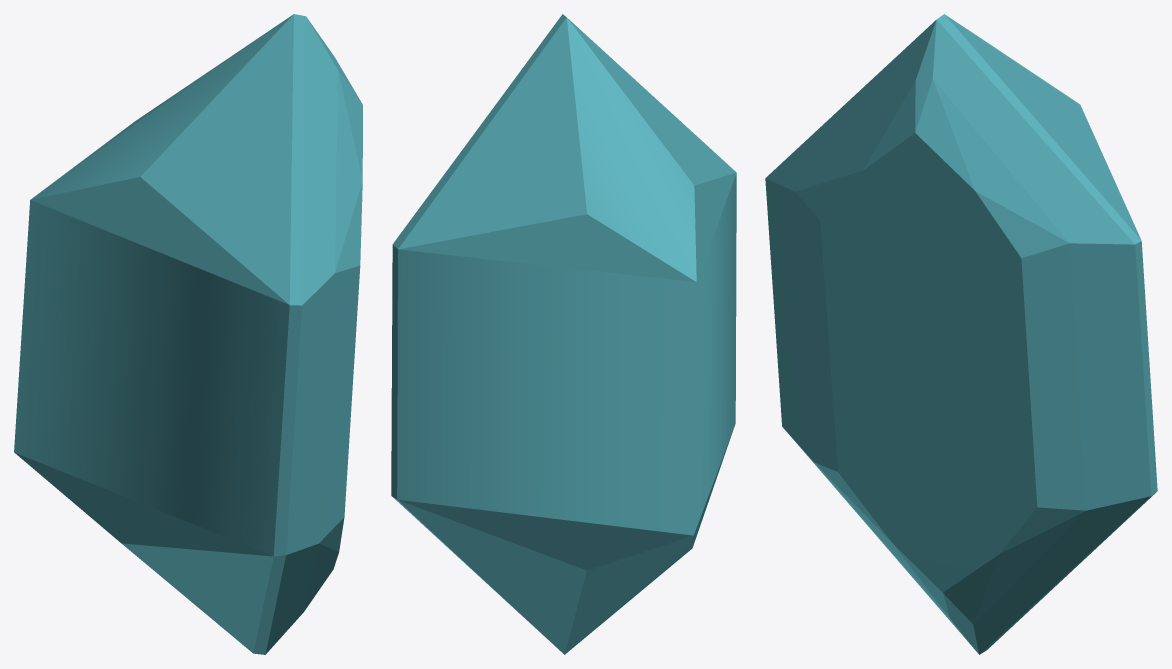
Rendered from BR4_8shapes_Hex_Classic_Stone.001 3.glb.
3 renders of one model, left to right at view 1: azimuth 30°, elevation 25°; view 2: azimuth 150°, elevation 25°; view 3: azimuth 270°, elevation 25°, orthographic. The views are drawn at different scales.
Visible parts, largest first — view 1: BR4_8shapes_Hex_Classic_Stone.001; view 2: BR4_8shapes_Hex_Classic_Stone.001; view 3: BR4_8shapes_Hex_Classic_Stone.001.
Part boxes in pixels (<box>): BR4_8shapes_Hex_Classic_Stone.001: <box>14,14,362,654</box>; BR4_8shapes_Hex_Classic_Stone.001: <box>391,14,736,654</box>; BR4_8shapes_Hex_Classic_Stone.001: <box>765,14,1157,654</box>.
Size of the model in its own units: 0.3259 by 0.6685 by 0.3679.
